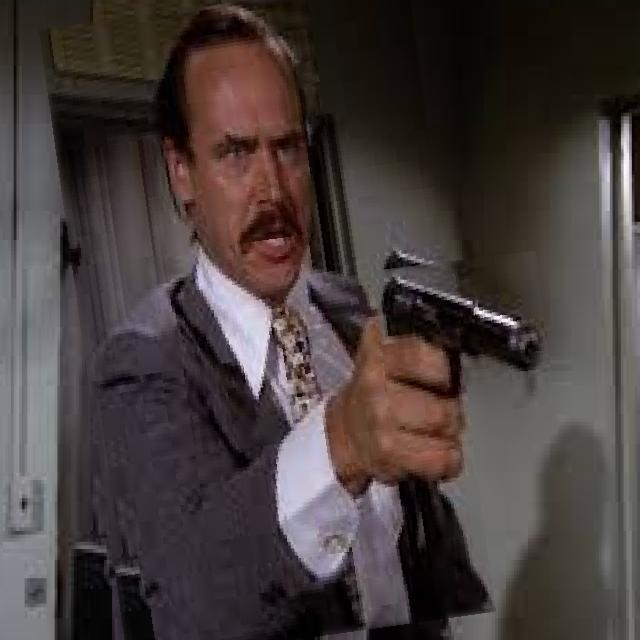Gun_Holder: (345, 255, 540, 479)
Person: (88, 2, 486, 640)
